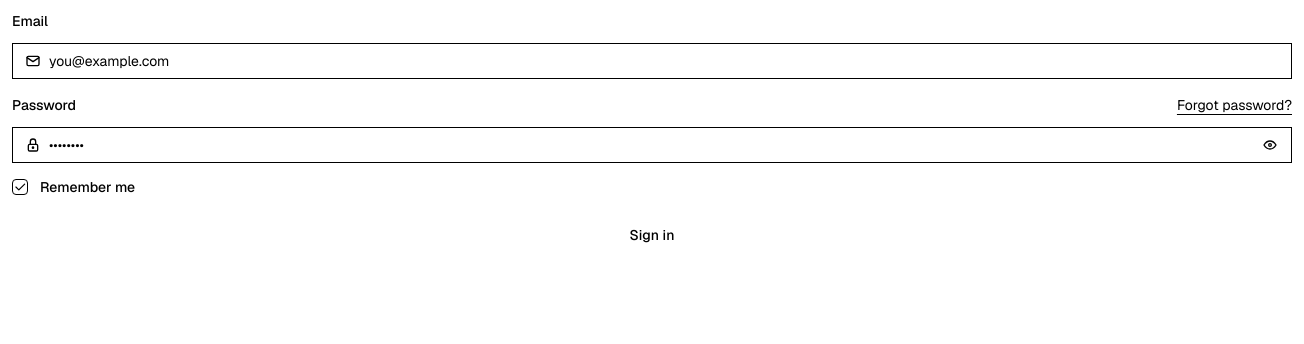
SignInView › shows the server's error message and does not redirect when sign-in fails
In the field labelled "Email": (666, 61) [41,43,1291,79], type "person@example.com"
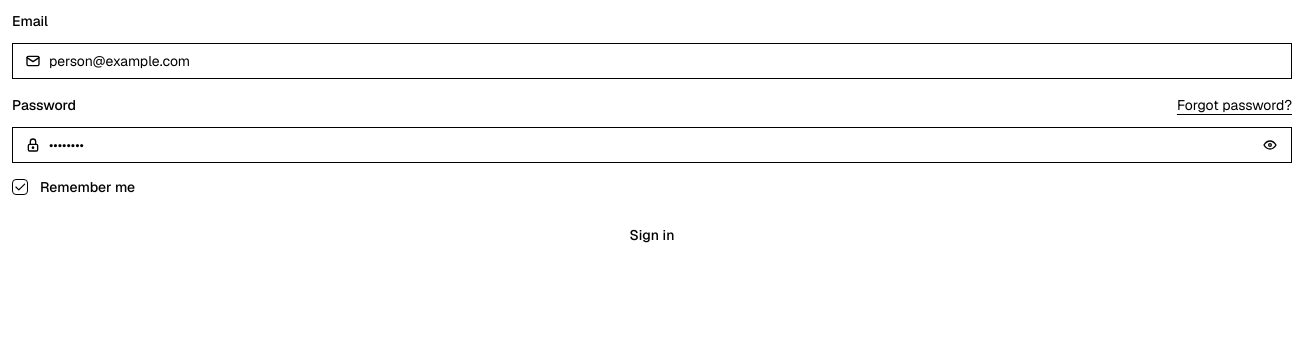
In the password field labelled "Password": (648, 145) [41,127,1254,163], type "wrong-password"
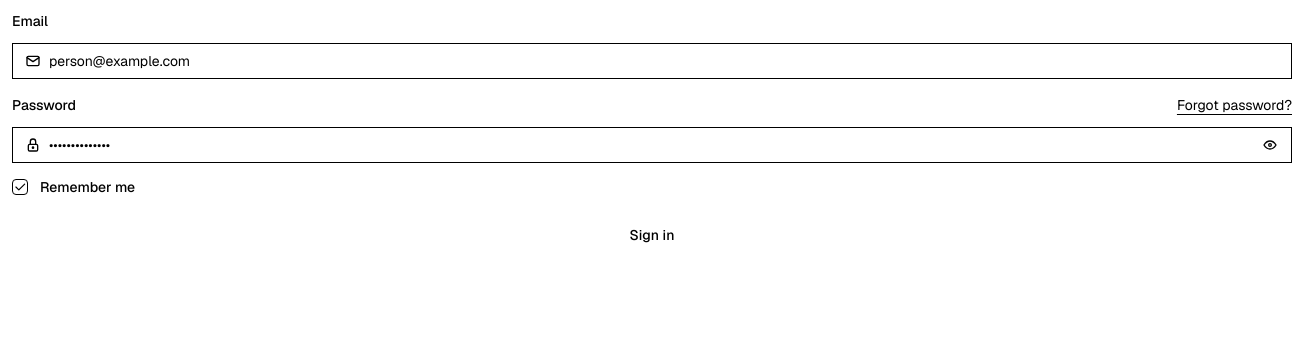
Click the button "Sign in": (652, 235) [12,215,1292,255]
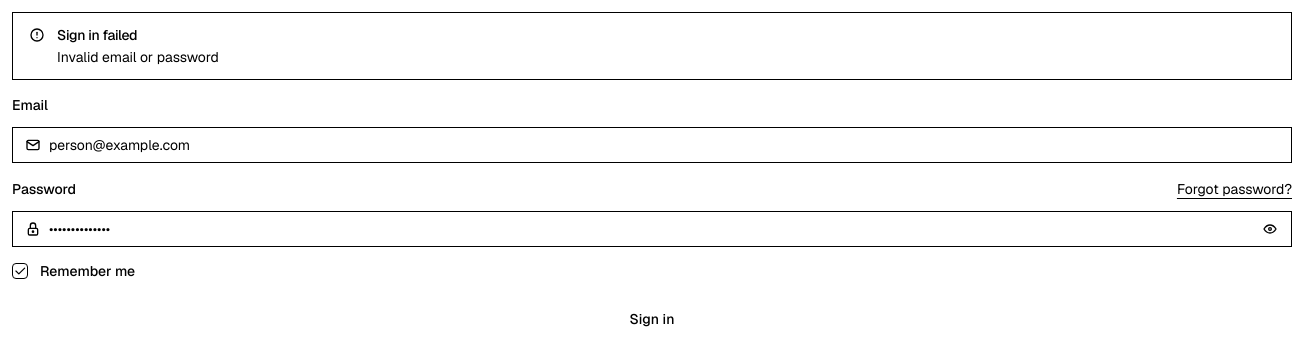
Expected: the text "Invalid email or password" is shown, [57,48,219,66]
